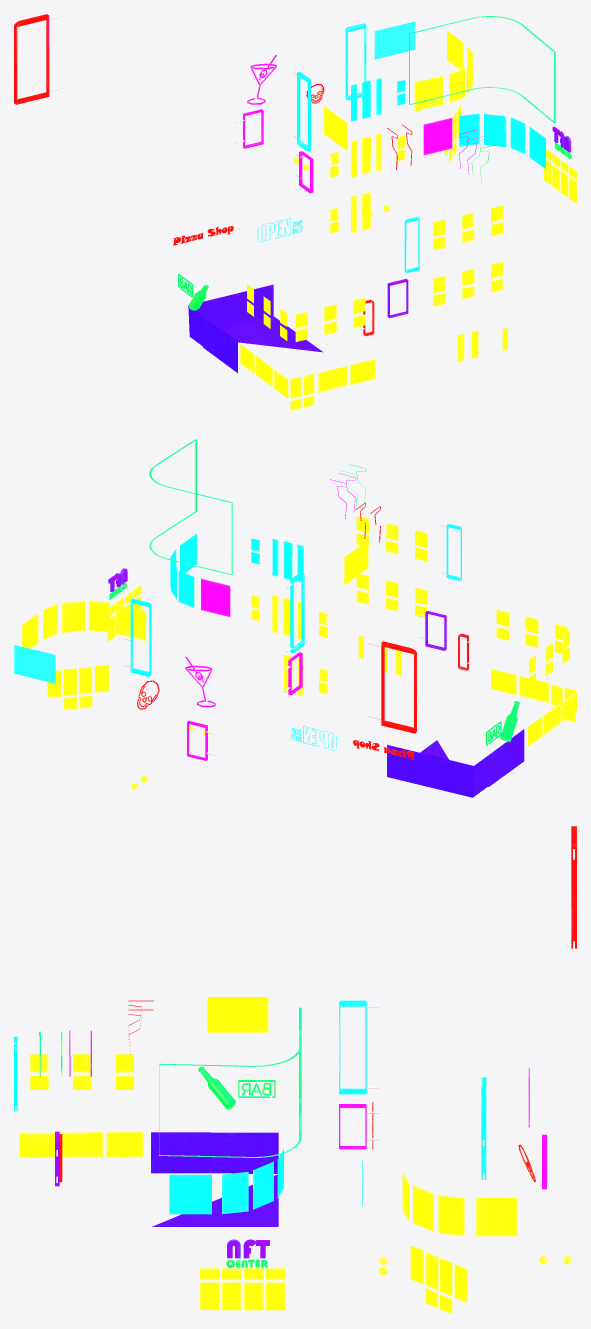
File: neon.gltf
The picture shows the model from 3 angles, top to bottom: view 1: azimuth 30°, elevation 25°; view 2: azimuth 150°, elevation 25°; view 3: azimuth 270°, elevation 25°; orthographic projection. The views are drawn at different scales.
Visible parts, largest first — view 1: Neon; view 2: Neon; view 3: Neon.
Part boxes in pixels (box(x1,y1,x2,y2)): Neon: box(14, 14, 576, 410); Neon: box(14, 439, 576, 797); Neon: box(14, 826, 576, 1314).
Bounding box in the file's own units: 15.72 × 8.7 × 14.18.
1 material, 1 textured.
